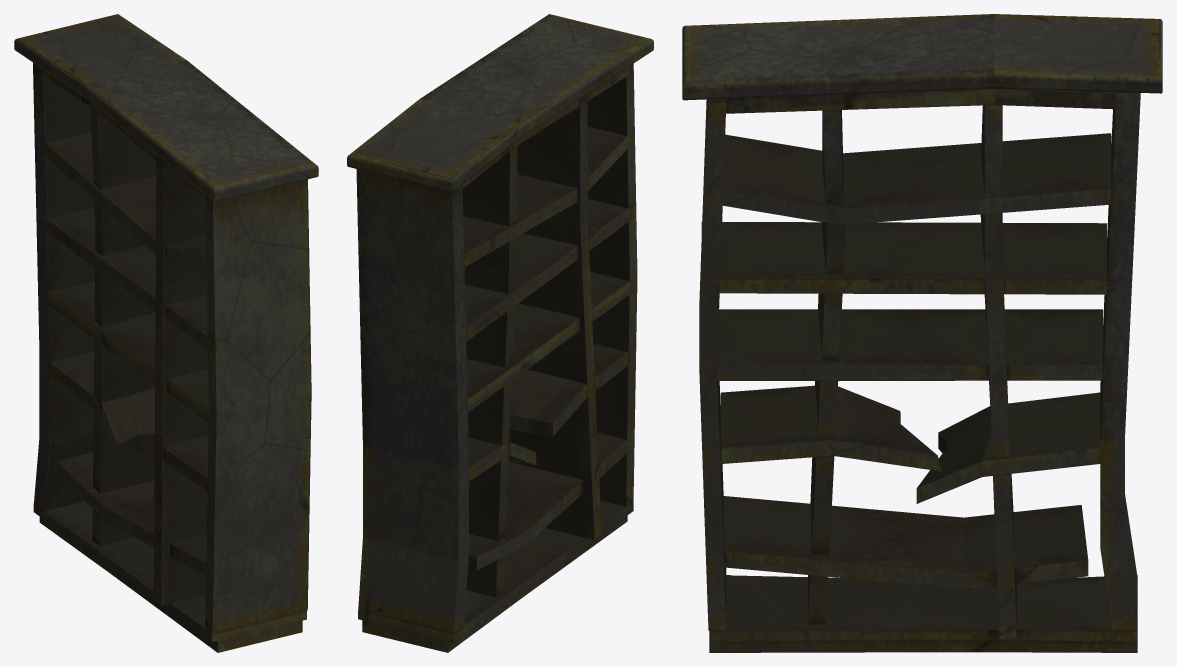
Rendered from Bibliotecas_Mediana.glb.
3 views of the same model, side by side, from view 1: azimuth 30°, elevation 25°; view 2: azimuth 150°, elevation 25°; view 3: azimuth 270°, elevation 25° (orthographic). The views are drawn at different scales.
Visible parts, largest first — view 1: Estanteria.001; view 2: Estanteria.001; view 3: Estanteria.001.
Part boxes in pixels (x1,y1,x2,y2): Estanteria.001: [14, 14, 318, 652]; Estanteria.001: [347, 14, 653, 652]; Estanteria.001: [682, 14, 1162, 652].
Bounding box in the file's own units: 0.8238 × 3.37 × 2.52.
1 material, 1 textured.
